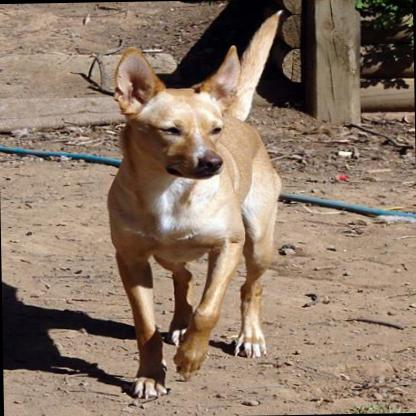kelpie: (104, 6, 288, 401)
